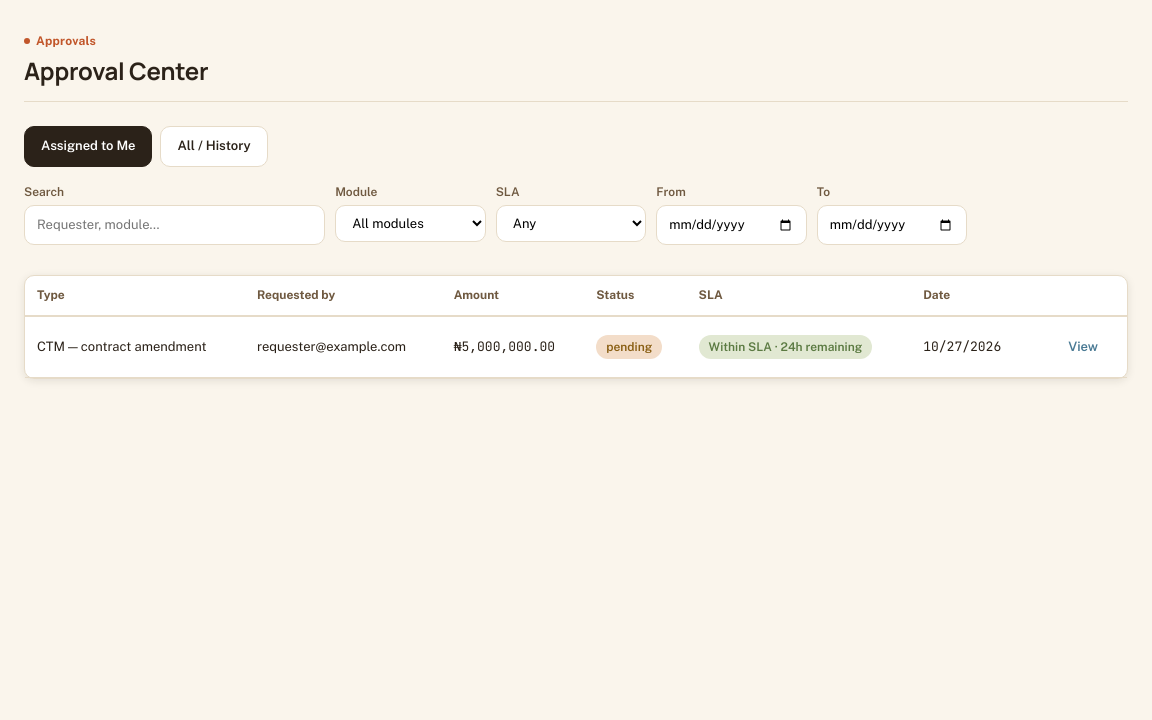
Test: ApprovalCenterPage › opens the detail modal showing the real action history
Expected: the text "requester@example.com" is shown, 245,316 -> 442,378
Click the button "View" at (1083, 347), box 1051,327 -> 1115,367
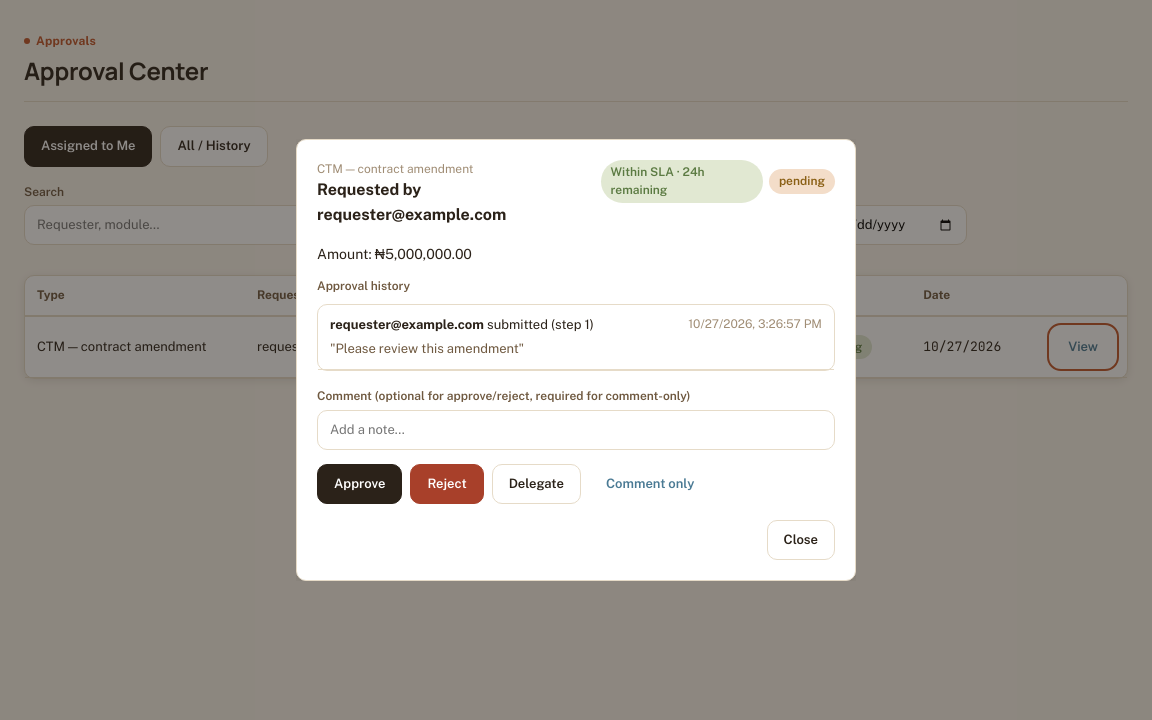
Expected: the text "\"Please review this amendment\"" is shown, 330,341 -> 524,356
